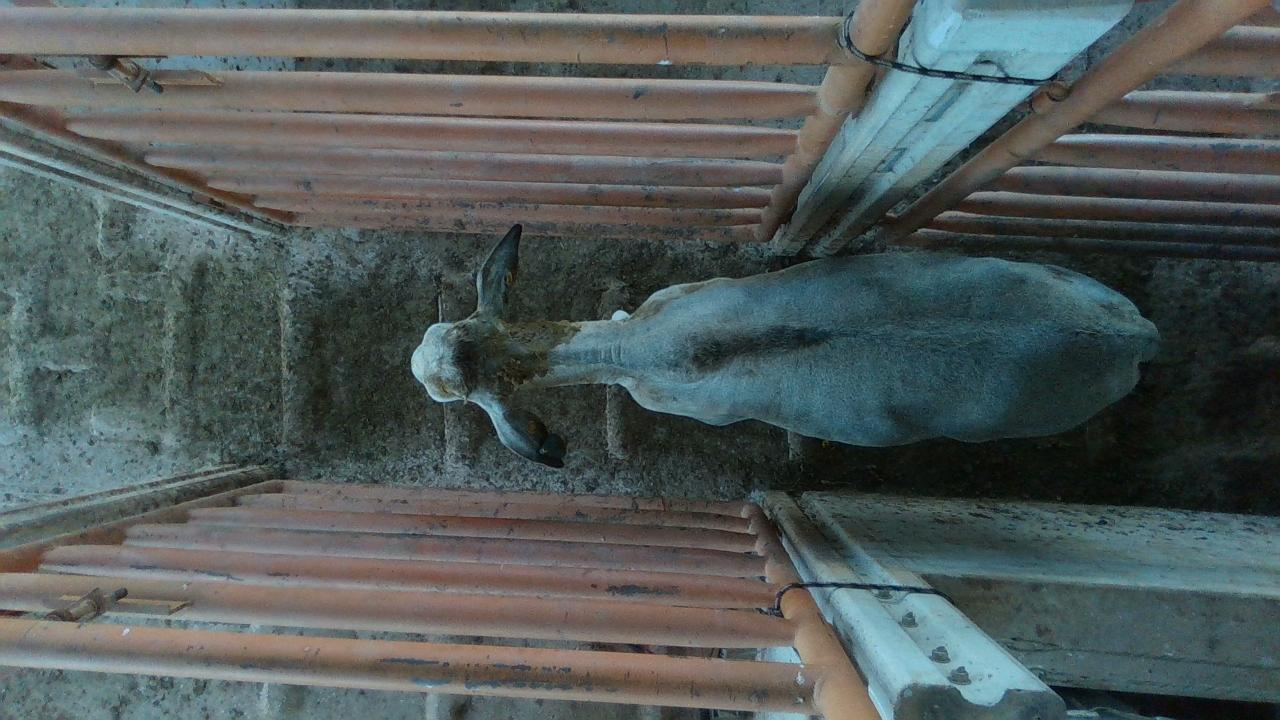cattle: (409, 221, 1161, 467)
